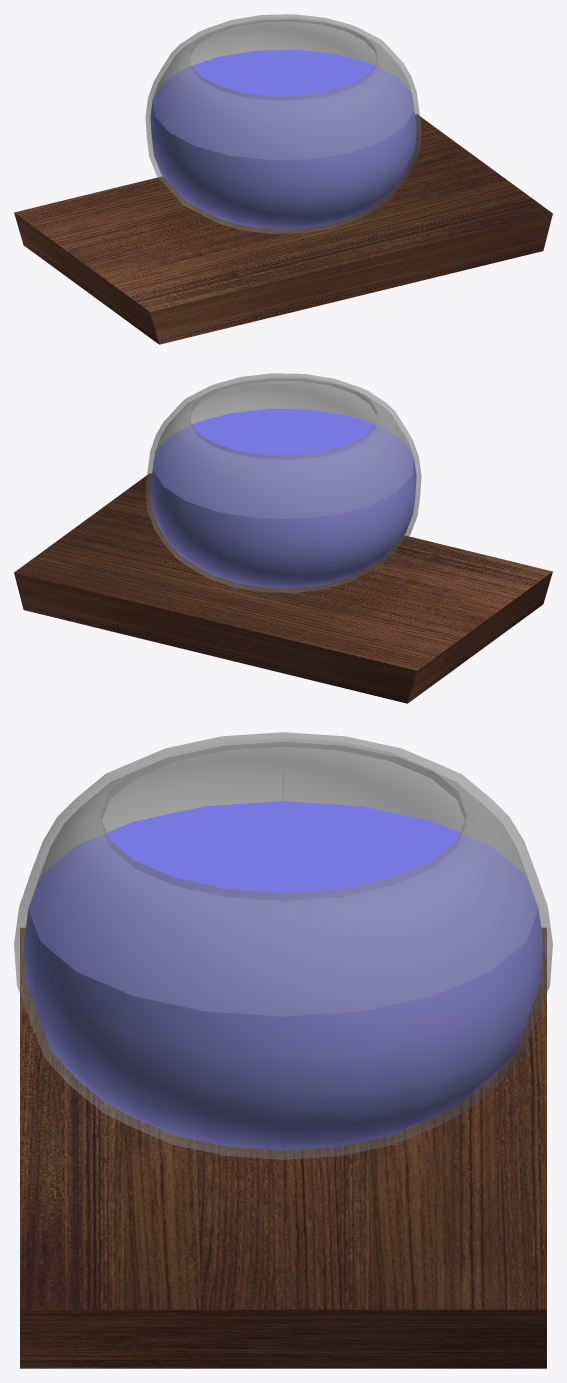
Rendered from shelf_fishball.fbx.
3 renders of one model, top to bottom at view 1: azimuth 30°, elevation 25°; view 2: azimuth 150°, elevation 25°; view 3: azimuth 270°, elevation 25°, orthographic. The views are drawn at different scales.
Visible parts, largest first — view 1: Box001, Circle001, Circle002; view 2: Box001, Circle001, Circle002; view 3: Circle001, Circle002, Box001.
Boxes of the visible parts, x1,y1,x2,y2 form: Box001: [14, 114, 552, 344]; Circle001: [145, 14, 421, 233]; Circle002: [150, 49, 416, 229]; Box001: [14, 473, 552, 703]; Circle001: [145, 373, 421, 592]; Circle002: [150, 408, 416, 588]; Circle001: [14, 732, 552, 1159]; Circle002: [23, 801, 543, 1150]; Box001: [20, 928, 546, 1368].
Size of the model in its own units: 60 by 27.22 by 35.78.
